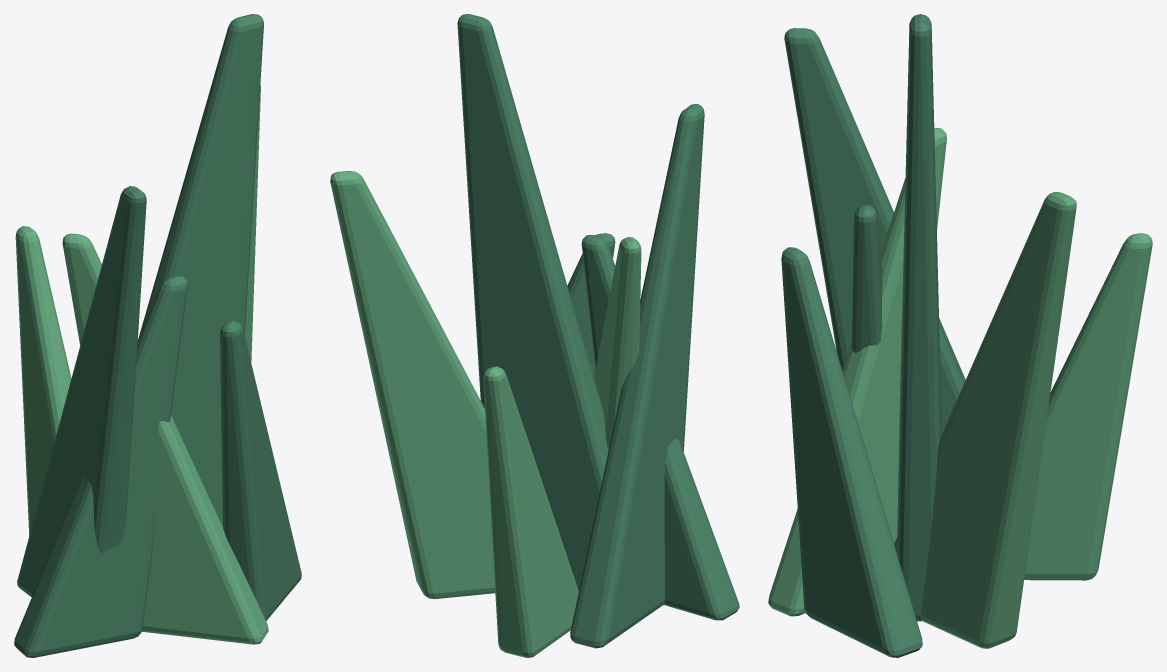
File: grass_tuft.glb
3 renders of one model, left to right at view 1: azimuth 30°, elevation 25°; view 2: azimuth 150°, elevation 25°; view 3: azimuth 270°, elevation 25°, orthographic. The views are drawn at different scales.
Parts seen in each view (by area): view 1: grass_tuft; view 2: grass_tuft; view 3: grass_tuft.
Part boxes in pixels (left/top/right/bottom): grass_tuft: left=14, top=14, right=301, bottom=657; grass_tuft: left=330, top=14, right=739, bottom=657; grass_tuft: left=768, top=14, right=1152, bottom=657.
Bounding box in the file's own units: 0.3727 × 0.62 × 0.3486.
